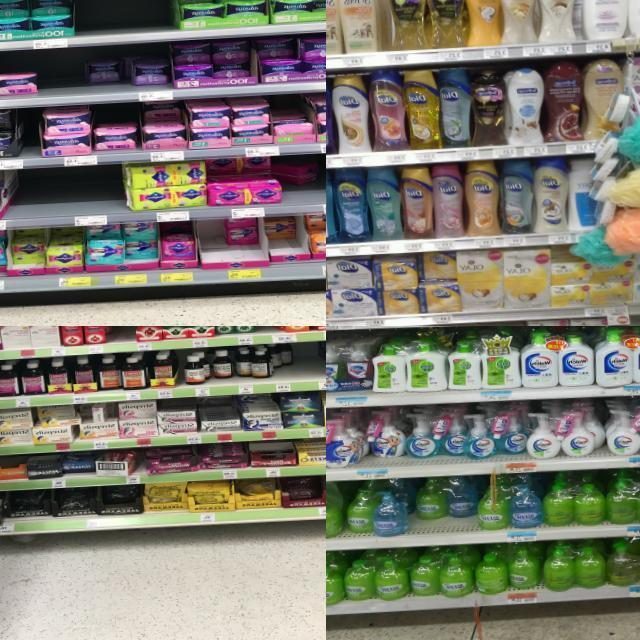Imprecise: (5, 488, 150, 523), (174, 38, 256, 96), (407, 472, 477, 532), (205, 152, 279, 208), (194, 220, 262, 268), (84, 225, 158, 269), (0, 228, 80, 266), (264, 207, 310, 265), (89, 46, 134, 104), (24, 401, 80, 447), (258, 34, 303, 89), (78, 400, 122, 453), (142, 105, 182, 153), (281, 154, 320, 202), (232, 474, 280, 510), (200, 437, 250, 468), (269, 344, 298, 378)
